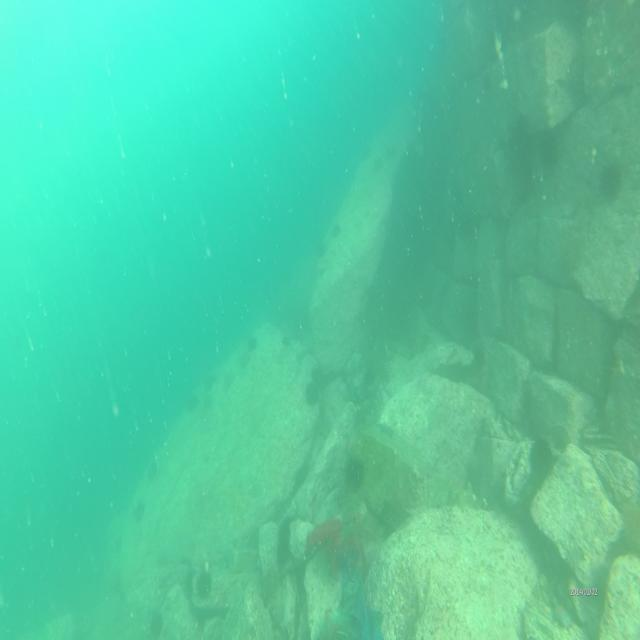echinus: (340, 451, 366, 493), (530, 436, 556, 478), (602, 159, 625, 200), (305, 380, 321, 408), (198, 570, 212, 600)
